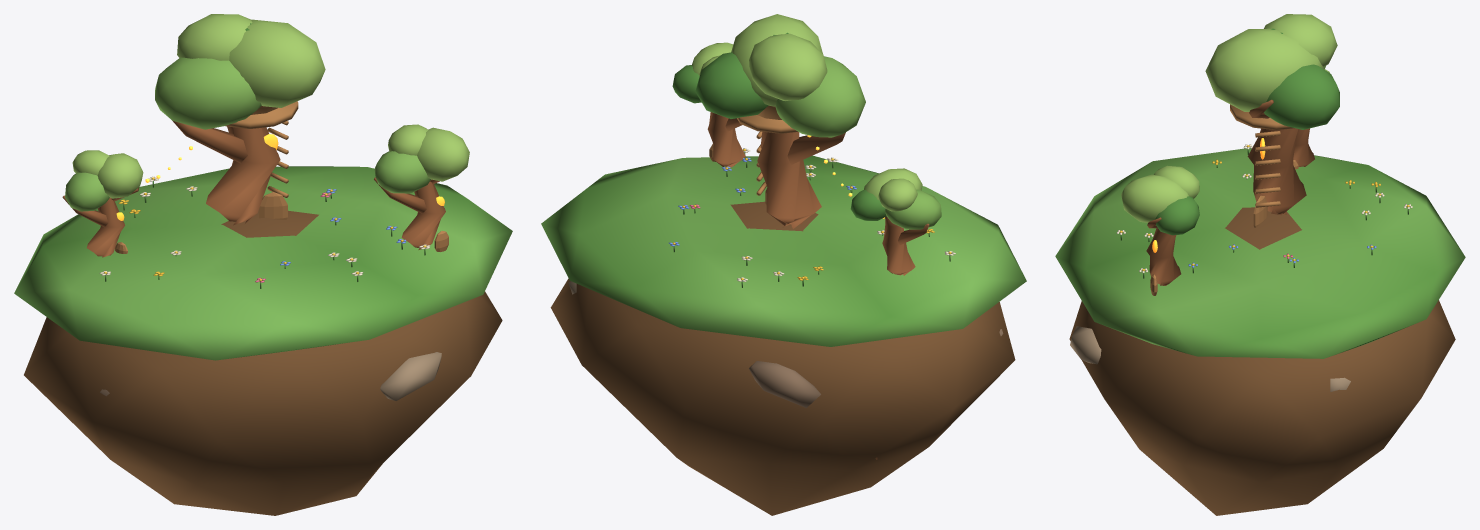
File: enchanted_woods_island.glb
3 views of the same model, side by side, from view 1: azimuth 30°, elevation 25°; view 2: azimuth 150°, elevation 25°; view 3: azimuth 270°, elevation 25° (orthographic). The views are drawn at different scales.
Parts seen in each view (by area): view 1: Oval grassy top, Jagged floating soil underside, Grand central treehouse foliage 1, Grand central treehouse foliage 0, Grand central treehouse gnarled trunk, Grand central treehouse foliage 3, East small tree home foliage 1, East small tree home foliage 0, Exposed rock stratum 03, West small tree home foliage 1, East small tree home gnarled trunk, West small tree home foliage 0 (+6 smaller); view 2: Oval grassy top, Jagged floating soil underside, Grand central treehouse foliage 0, Grand central treehouse foliage 3, Grand central treehouse gnarled trunk, Grand central treehouse foliage 2, Grand central treehouse foliage 1, Exposed rock stratum 02, West small tree home foliage 0, East small tree home gnarled trunk, West small tree home gnarled trunk, West small tree home foliage 3 (+6 smaller); view 3: Oval grassy top, Jagged floating soil underside, Grand central treehouse foliage 1, Grand central treehouse foliage 2, Grand central treehouse gnarled trunk, East small tree home foliage 1, Grand central treehouse foliage 3, East small tree home gnarled trunk, East small tree home foliage 2, Exposed rock stratum 03, East small tree home foliage 3, Grand central treehouse branch platform (+1 smaller).
Boxes of the visible parts, left/top/right/bottom form: Oval grassy top: left=14, top=166, right=512, bottom=360; Jagged floating soil underside: left=24, top=210, right=502, bottom=515; Grand central treehouse foliage 1: left=229, top=19, right=325, bottom=107; Grand central treehouse foliage 0: left=155, top=57, right=261, bottom=129; Grand central treehouse gnarled trunk: left=206, top=126, right=280, bottom=225; Grand central treehouse foliage 3: left=177, top=14, right=252, bottom=60; East small tree home foliage 1: left=417, top=127, right=469, bottom=181; East small tree home foliage 0: left=374, top=151, right=430, bottom=193; Exposed rock stratum 03: left=380, top=352, right=441, bottom=400; West small tree home foliage 1: left=97, top=153, right=143, bottom=198; East small tree home gnarled trunk: left=401, top=181, right=445, bottom=249; West small tree home foliage 0: left=65, top=172, right=109, bottom=211; Oval grassy top: left=541, top=155, right=1026, bottom=346; Jagged floating soil underside: left=550, top=201, right=1015, bottom=515; Grand central treehouse foliage 0: left=775, top=56, right=865, bottom=137; Grand central treehouse foliage 3: left=749, top=33, right=827, bottom=100; Grand central treehouse gnarled trunk: left=757, top=131, right=821, bottom=228; Grand central treehouse foliage 2: left=695, top=52, right=768, bottom=118; Grand central treehouse foliage 1: left=731, top=14, right=822, bottom=106; Exposed rock stratum 02: left=749, top=361, right=820, bottom=407; West small tree home foliage 0: left=885, top=189, right=941, bottom=229; East small tree home gnarled trunk: left=707, top=112, right=745, bottom=167; West small tree home gnarled trunk: left=882, top=216, right=915, bottom=275; West small tree home foliage 3: left=878, top=178, right=917, bottom=211; Oval grassy top: left=1055, top=148, right=1465, bottom=358; Jagged floating soil underside: left=1069, top=207, right=1455, bottom=515; Grand central treehouse foliage 1: left=1205, top=28, right=1324, bottom=111; Grand central treehouse foliage 2: left=1264, top=64, right=1339, bottom=129; Grand central treehouse gnarled trunk: left=1247, top=128, right=1306, bottom=215; East small tree home foliage 1: left=1121, top=174, right=1188, bottom=222; Grand central treehouse foliage 3: left=1264, top=14, right=1337, bottom=66; East small tree home gnarled trunk: left=1146, top=228, right=1181, bottom=285; East small tree home foliage 2: left=1155, top=196, right=1199, bottom=235; Exposed rock stratum 03: left=1070, top=326, right=1101, bottom=364; East small tree home foliage 3: left=1154, top=165, right=1199, bottom=198; Grand central treehouse branch platform: left=1230, top=104, right=1294, bottom=130.
Size of the model in its own units: 14.36 by 15.25 by 12.2.
